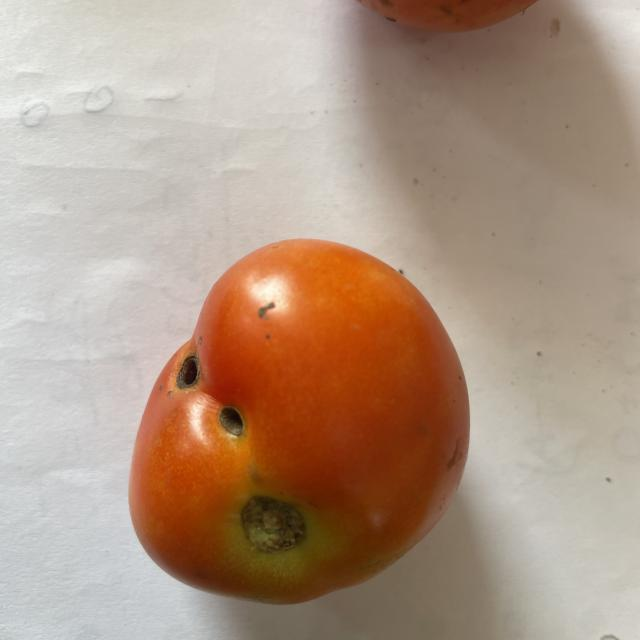fruitworm_bore: (156, 343, 250, 454)
